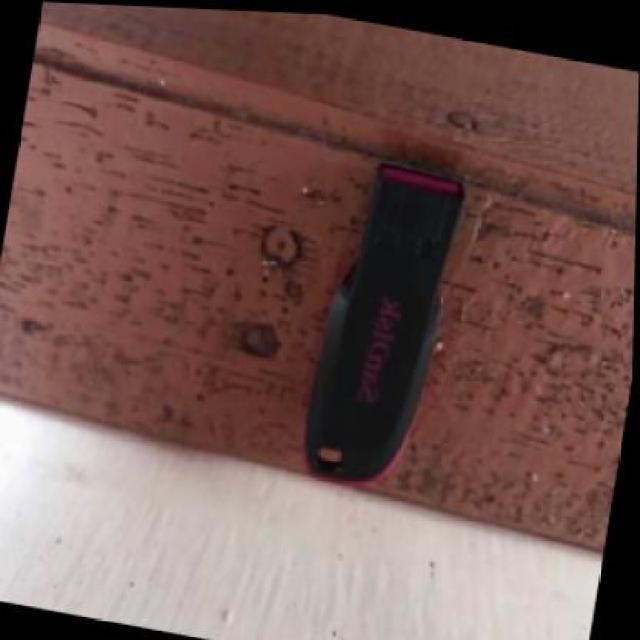Flashdisk: (267, 116, 502, 529)
